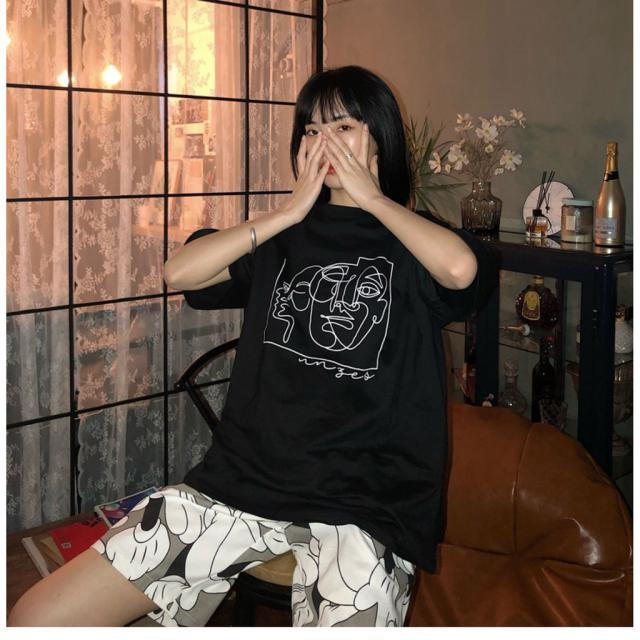Shirt: (177, 194, 492, 575)
